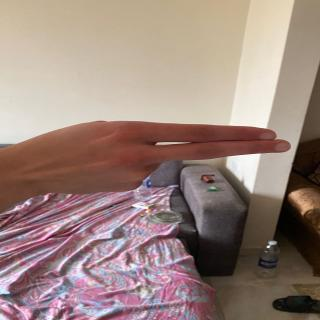AYN: (0, 103, 302, 212)
